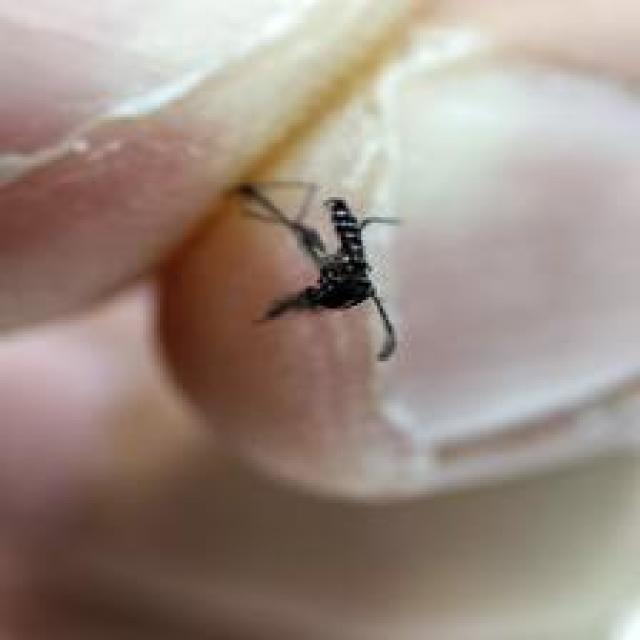Aedes albopictus: (233, 176, 401, 361)
